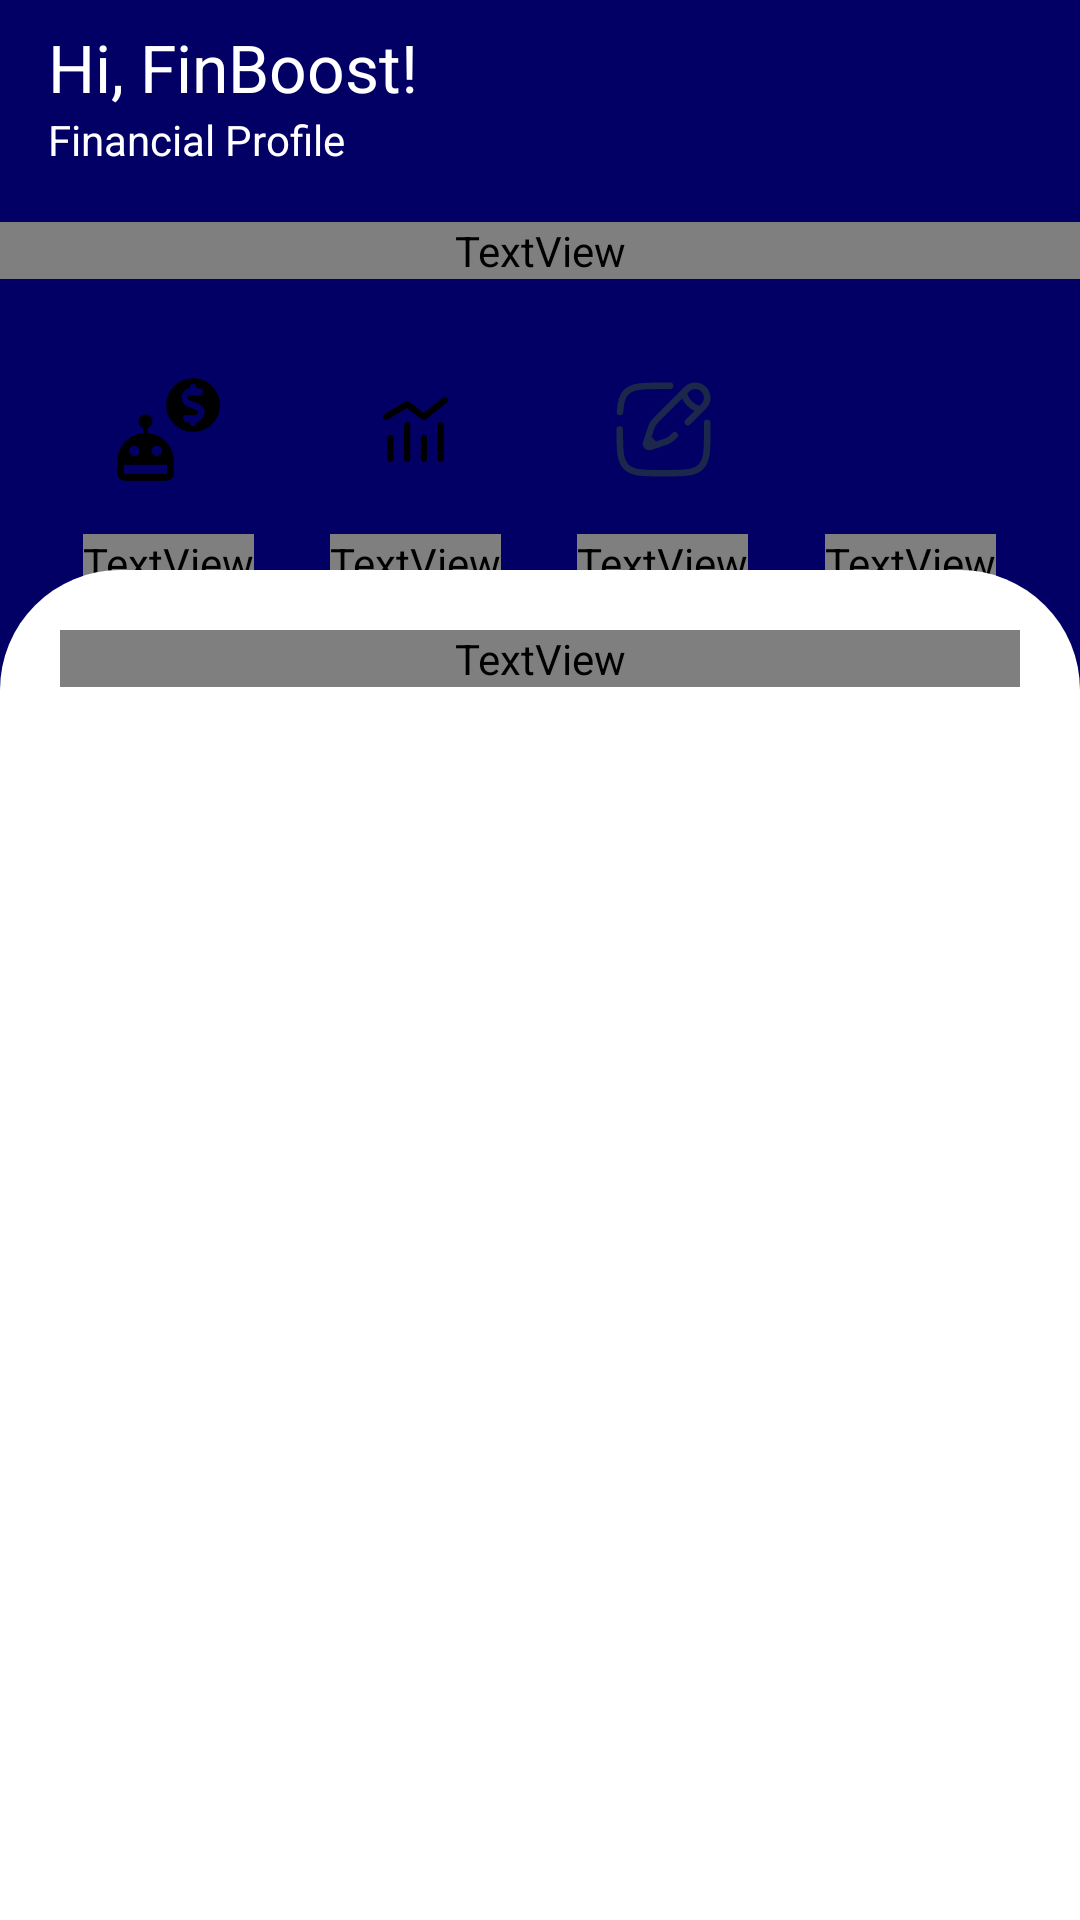

Icon click points for this 1080px×1920px phone screenshot, format point (x, y):
Analytics: point (415, 429)
Fin Ai: point (168, 429)
